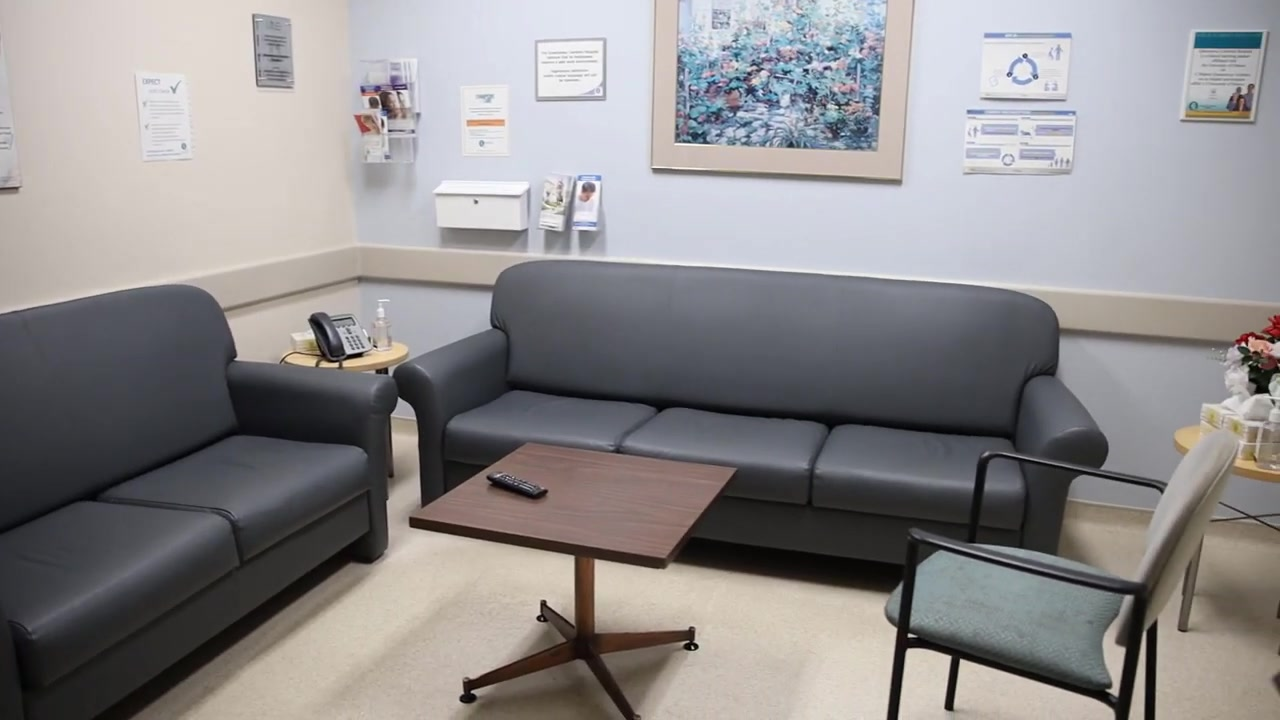chair: (880, 425, 1246, 720)
dispenser: (1252, 392, 1280, 474), (371, 294, 397, 352)
sofa: (394, 258, 1112, 578), (1, 278, 400, 720)
table: (404, 441, 741, 720), (1172, 423, 1280, 635), (279, 336, 409, 379)
telephone: (302, 311, 377, 365)
